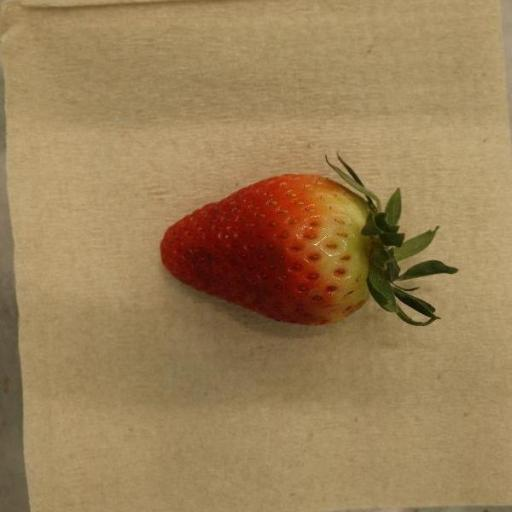Strawberry: (159, 174, 459, 327)
